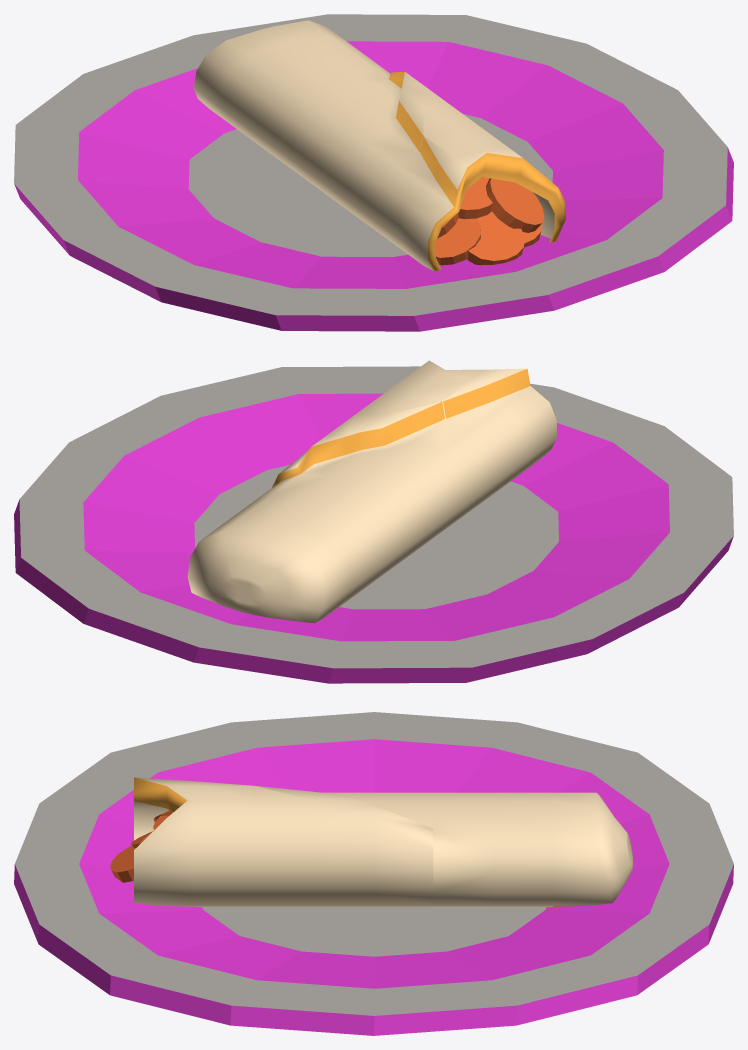
Rendered from Asset_11_burrito-winnie.fbx.
3 renders of one model, top to bottom at view 1: azimuth 30°, elevation 25°; view 2: azimuth 150°, elevation 25°; view 3: azimuth 270°, elevation 25°, orthographic.
Parts seen in each view (by area): view 1: plato, tortilla, winnies; view 2: plato, tortilla; view 3: plato, tortilla, winnies.
Part boxes in pixels (box(x1,y1,x2,y2)): plato: box(14, 14, 733, 331); tortilla: box(193, 20, 565, 271); winnies: box(436, 177, 544, 265); plato: box(14, 366, 733, 683); tortilla: box(187, 360, 556, 623); plato: box(14, 712, 733, 1035); tortilla: box(134, 777, 633, 906); winnies: box(110, 810, 172, 882).
Bounding box in the file's own units: 1573 × 307 × 1559.
